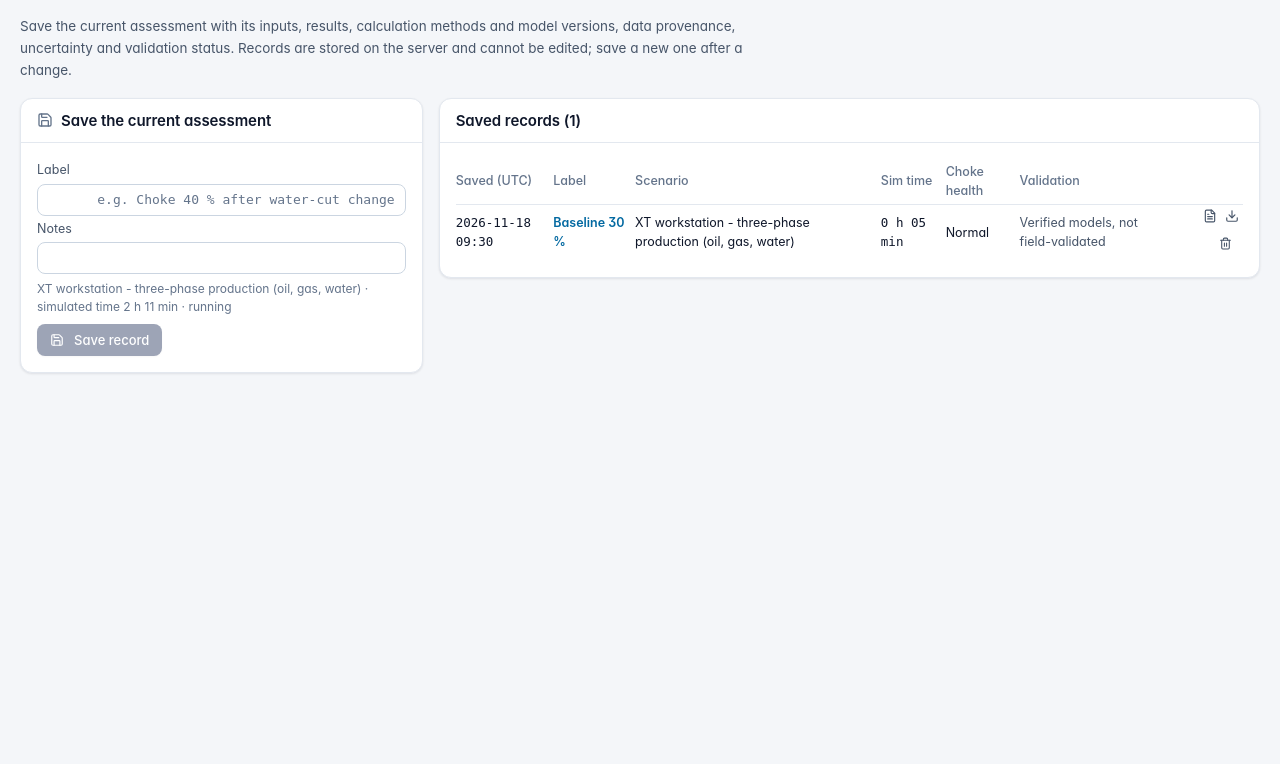
Test case: Simulation records page › lists saved records and shows provenance, methods and validation of the selected one
The image size is (1280, 764).
Click the button "Baseline 30 %" at [590, 233], box x1=553 y1=214 x2=627 y2=252
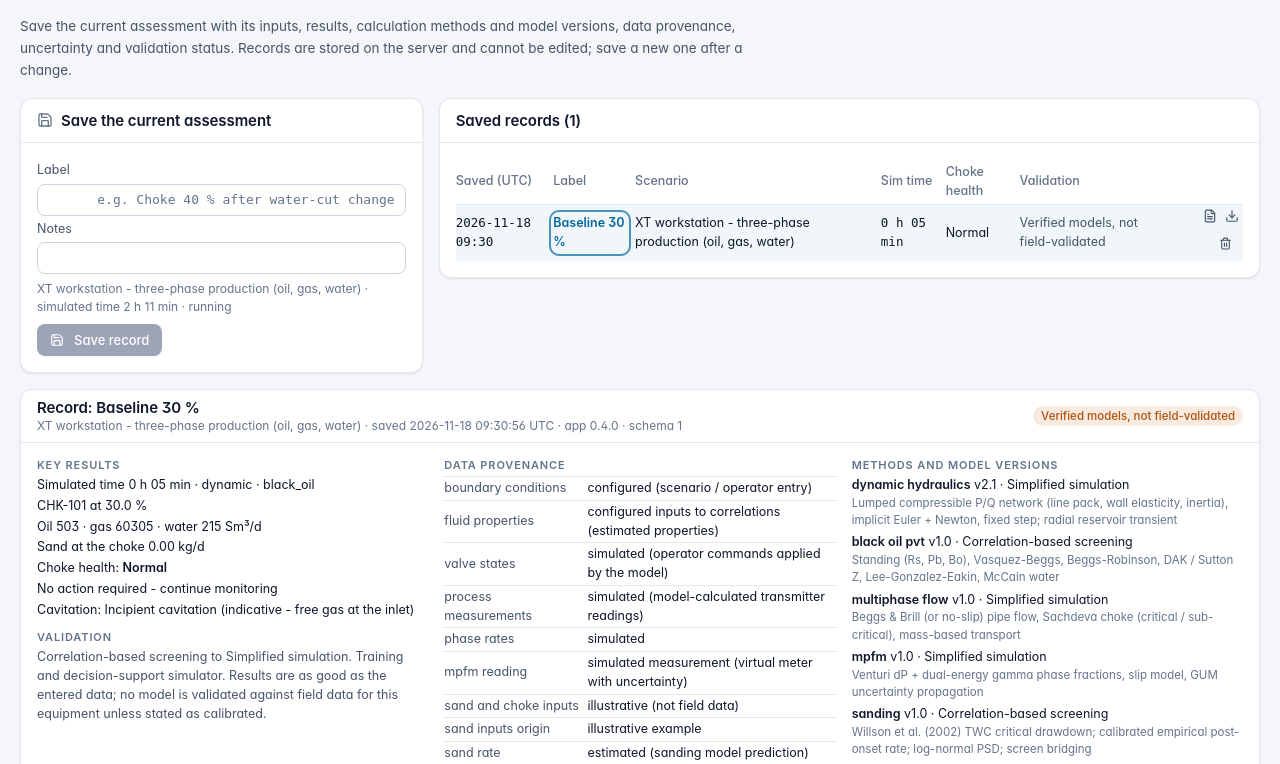
Check: the text with test id "record-validation" reads "Verified models, not field-validated", box x1=1041 y1=409 x2=1235 y2=423
Check: the table with test id "record-provenance" shows "illustrative (not field data)", box x1=588 y1=698 x2=739 y2=712
Check: the table with test id "record-provenance" shows "simulated (model-calculated transmitter readings)", box x1=588 y1=589 x2=825 y2=623
